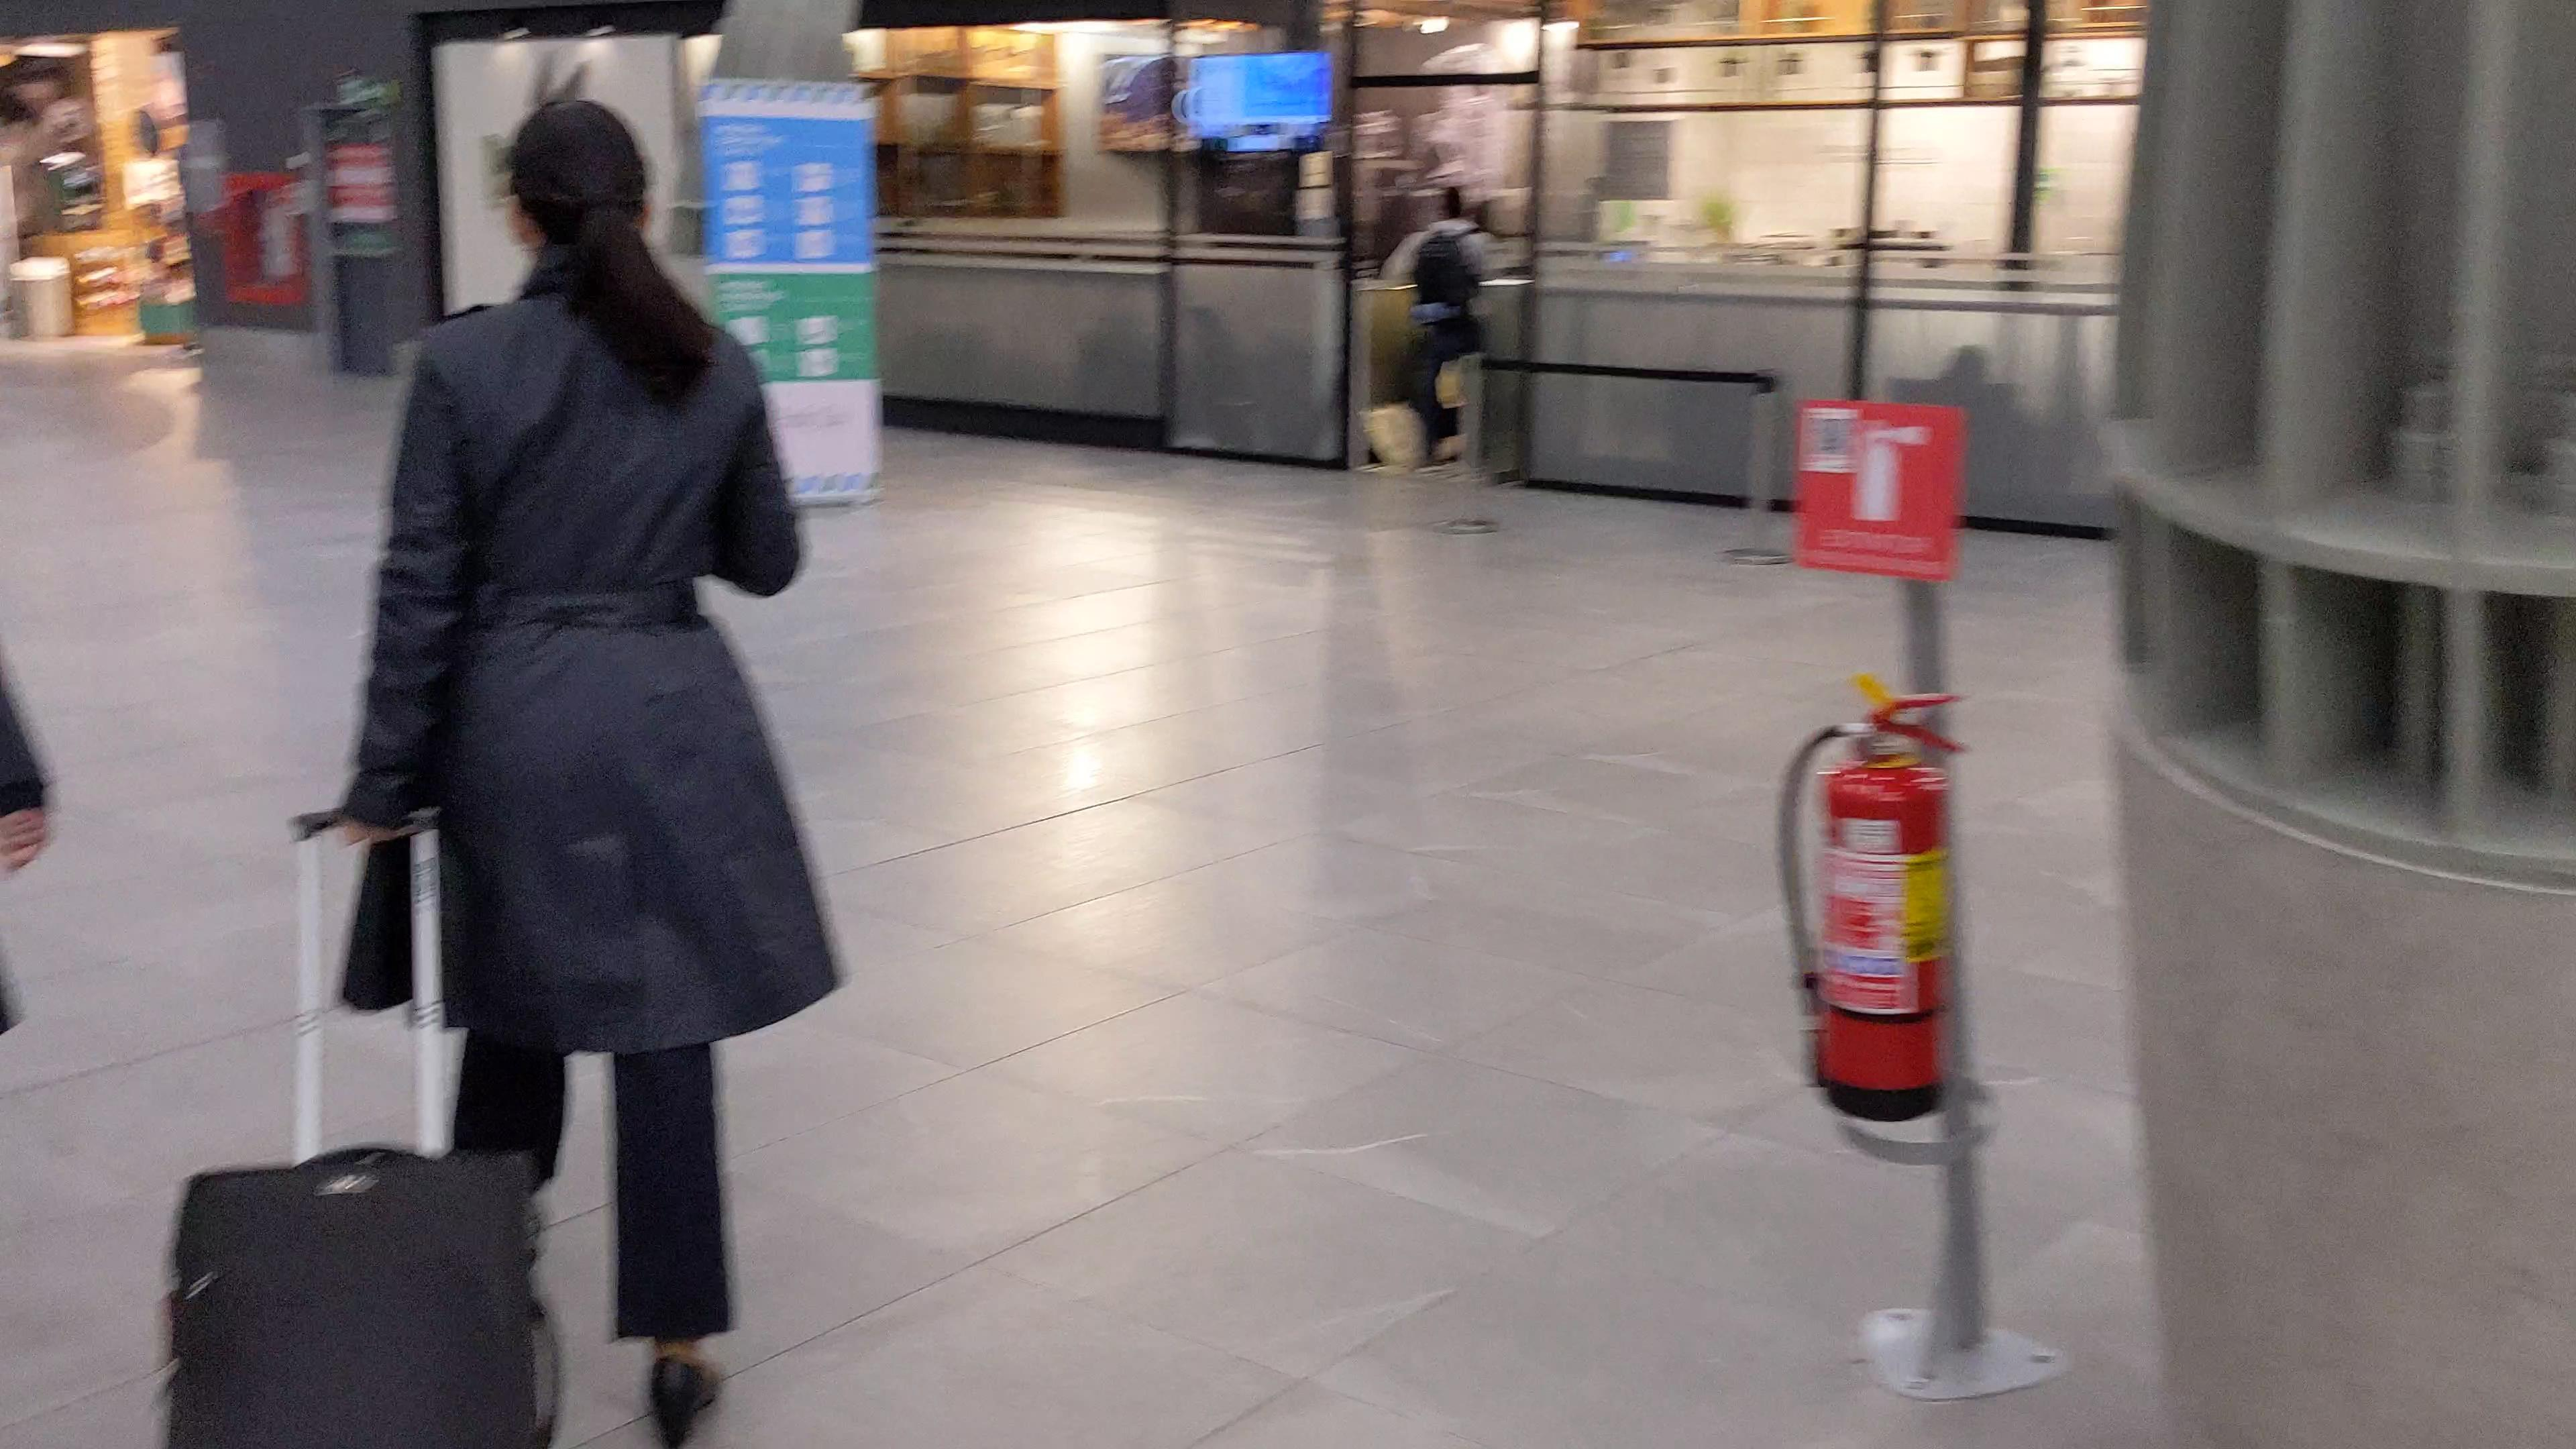extinguisher symbol: (1838, 418, 1937, 525)
fire-extinguisher: (1769, 667, 1983, 1123)
